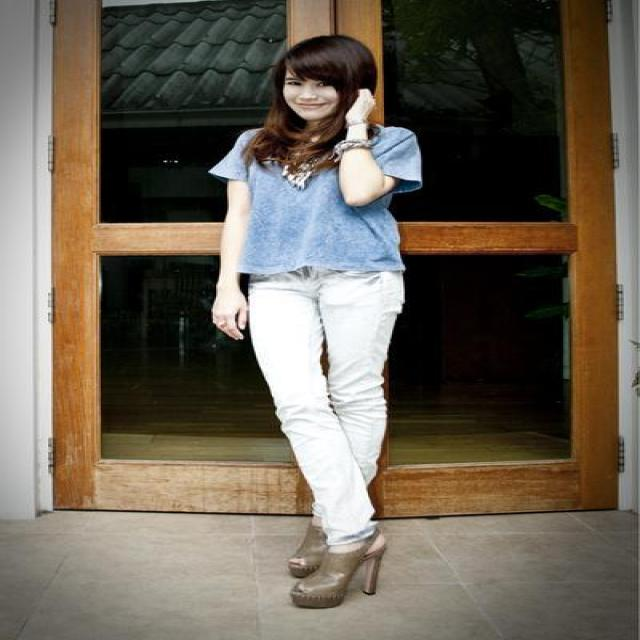pants: (250, 272, 403, 544)
shirt: (211, 126, 421, 293)
shoe: (288, 521, 386, 608)
